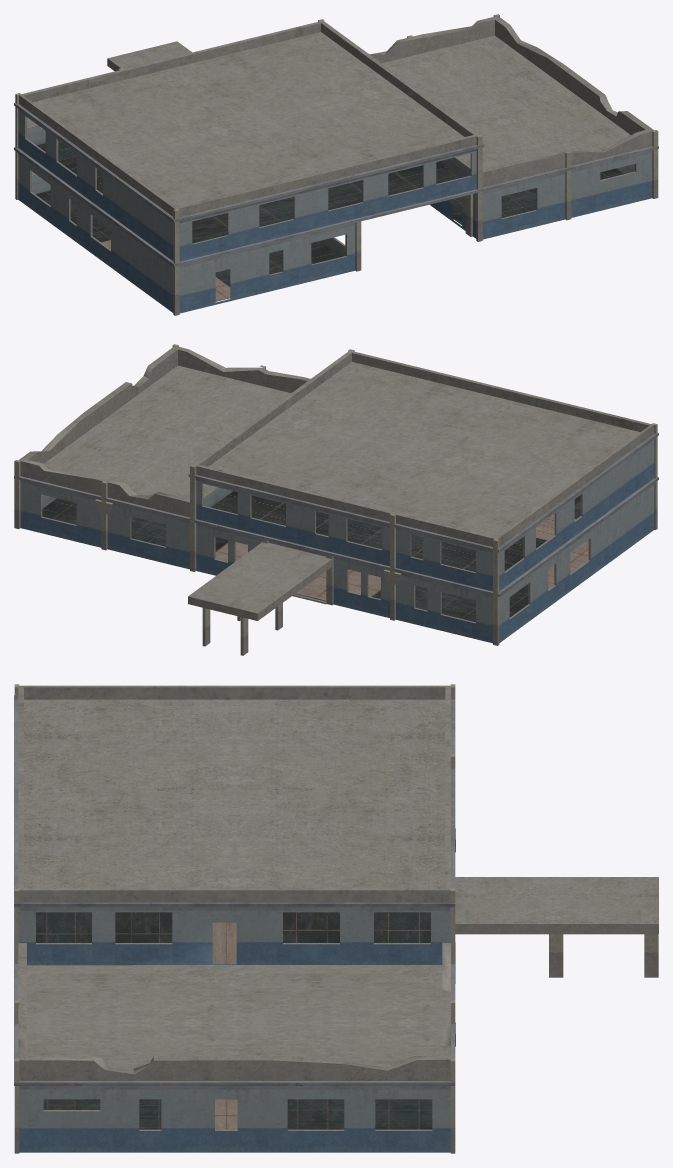
The model's file is Building_Jcj_2048_lod2.glb.
The picture shows the model from 3 angles, top to bottom: view 1: azimuth 30°, elevation 25°; view 2: azimuth 150°, elevation 25°; view 3: azimuth 270°, elevation 25°; orthographic projection. The views are drawn at different scales.
Parts seen in each view (by area): view 1: xiutz_jcj_lod2; view 2: xiutz_jcj_lod2; view 3: xiutz_jcj_lod2.
Boxes of the visible parts, x1,y1,x2,y2 form: xiutz_jcj_lod2: (14,14,658,315); xiutz_jcj_lod2: (14,344,658,655); xiutz_jcj_lod2: (14,684,658,1153).
Bounding box in the file's own units: 50.26 × 10.4 × 42.
Materials: 1 (1 with a texture image).
